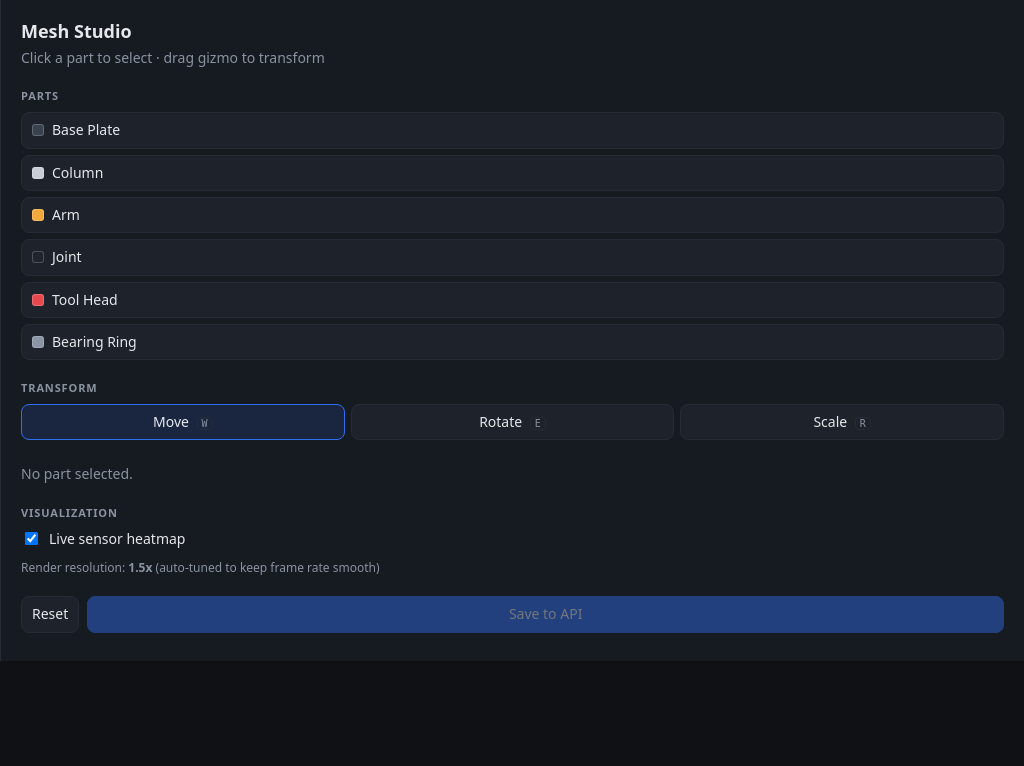
it: <ControlPanel> › saves to the API and shows "Saved"
Click the button "Arm" at (38, 215), box [21,197,1004,233]
(page scrolled)
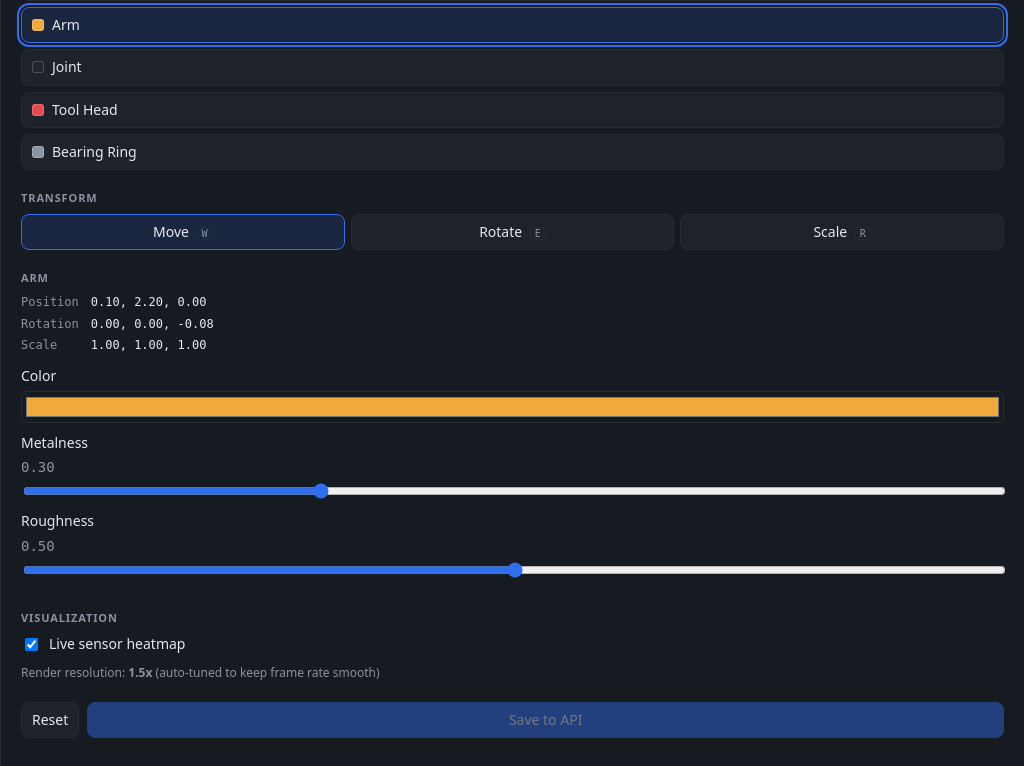
Set the slider labelled "Roughness 0.50" to "0.2" at (224, 570), box [23,562,1006,578]
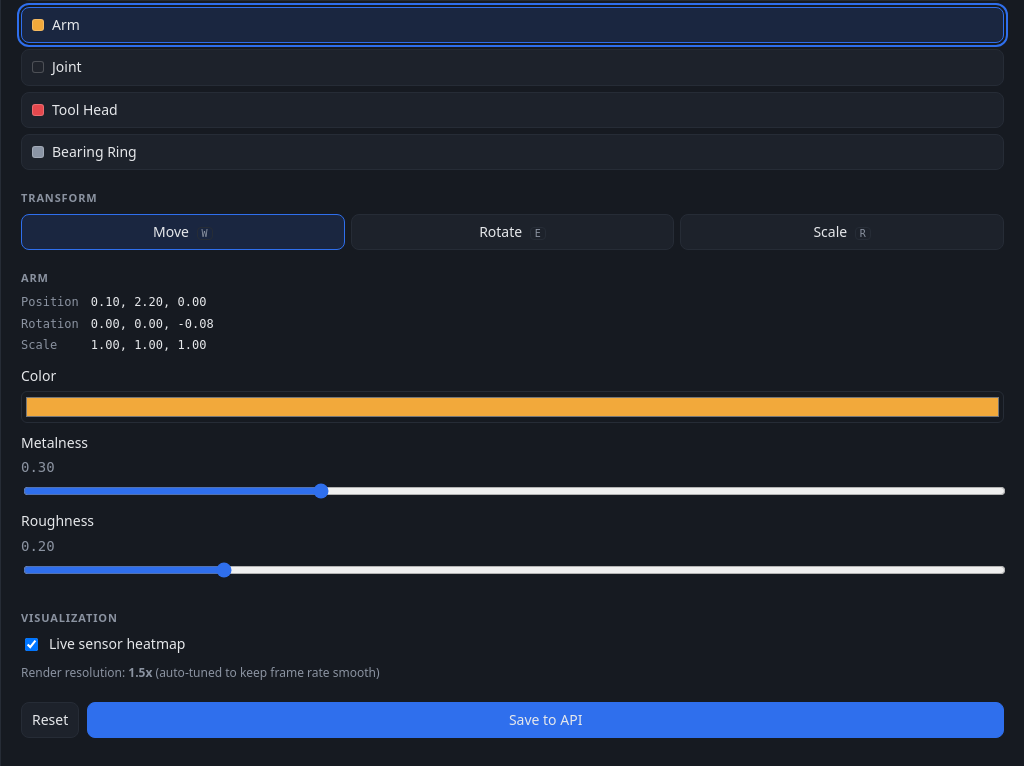
Click the button "Save to API" at (546, 720), box [87,702,1004,738]
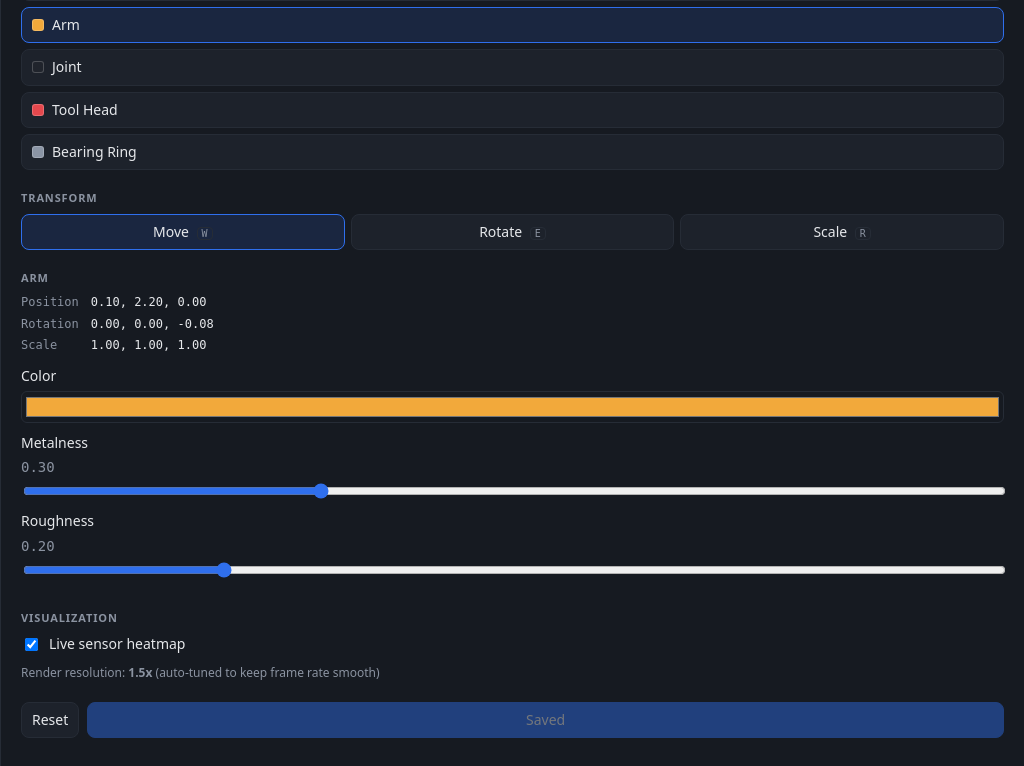
Result: the button "Saved" is disabled at [87,702,1004,738]
